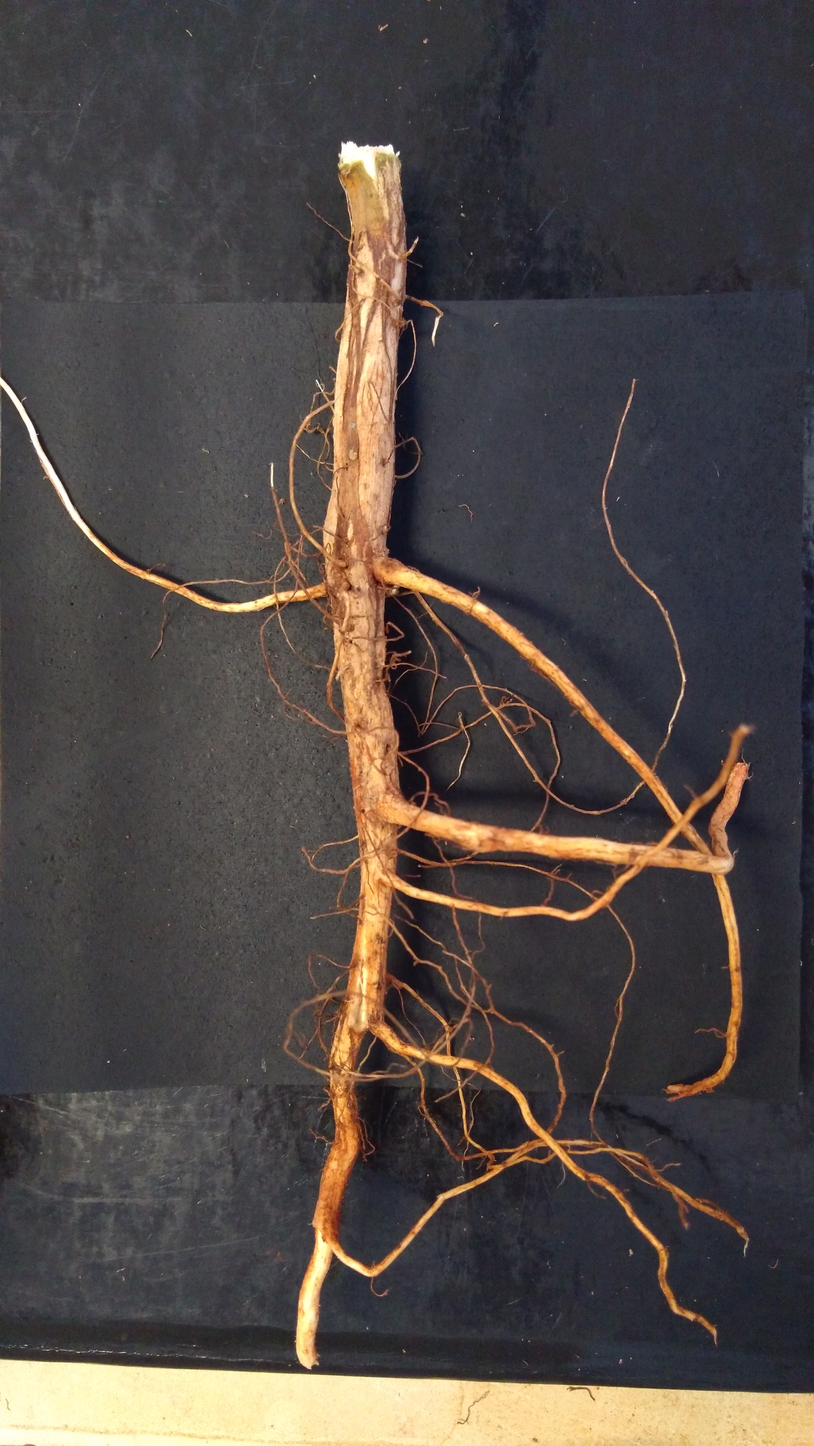nodule: (347, 996, 370, 1033), (385, 582, 400, 598), (348, 264, 362, 276), (341, 581, 352, 592)
